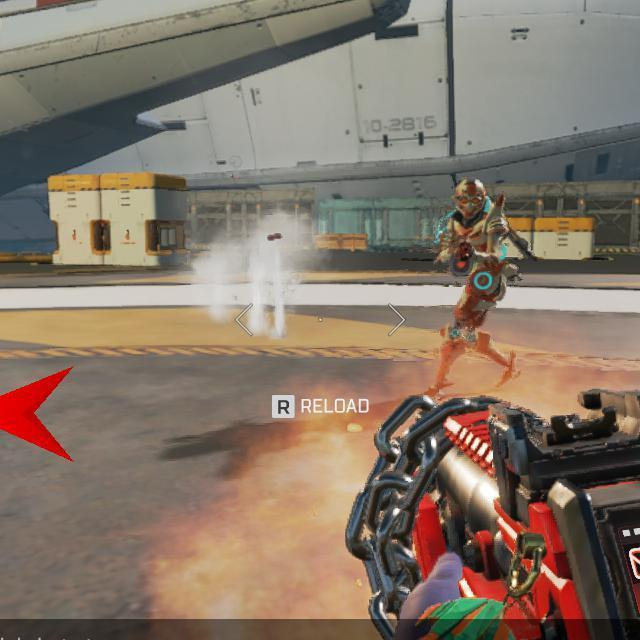avatar: (423, 178, 521, 397)
